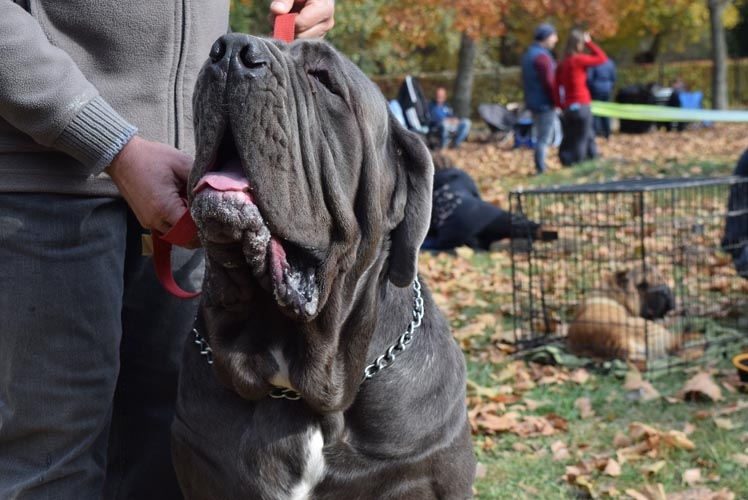neapolitan_mastiff: (171, 30, 478, 500)
person: (0, 0, 335, 500), (423, 150, 558, 253), (556, 28, 609, 166), (519, 23, 562, 175)
